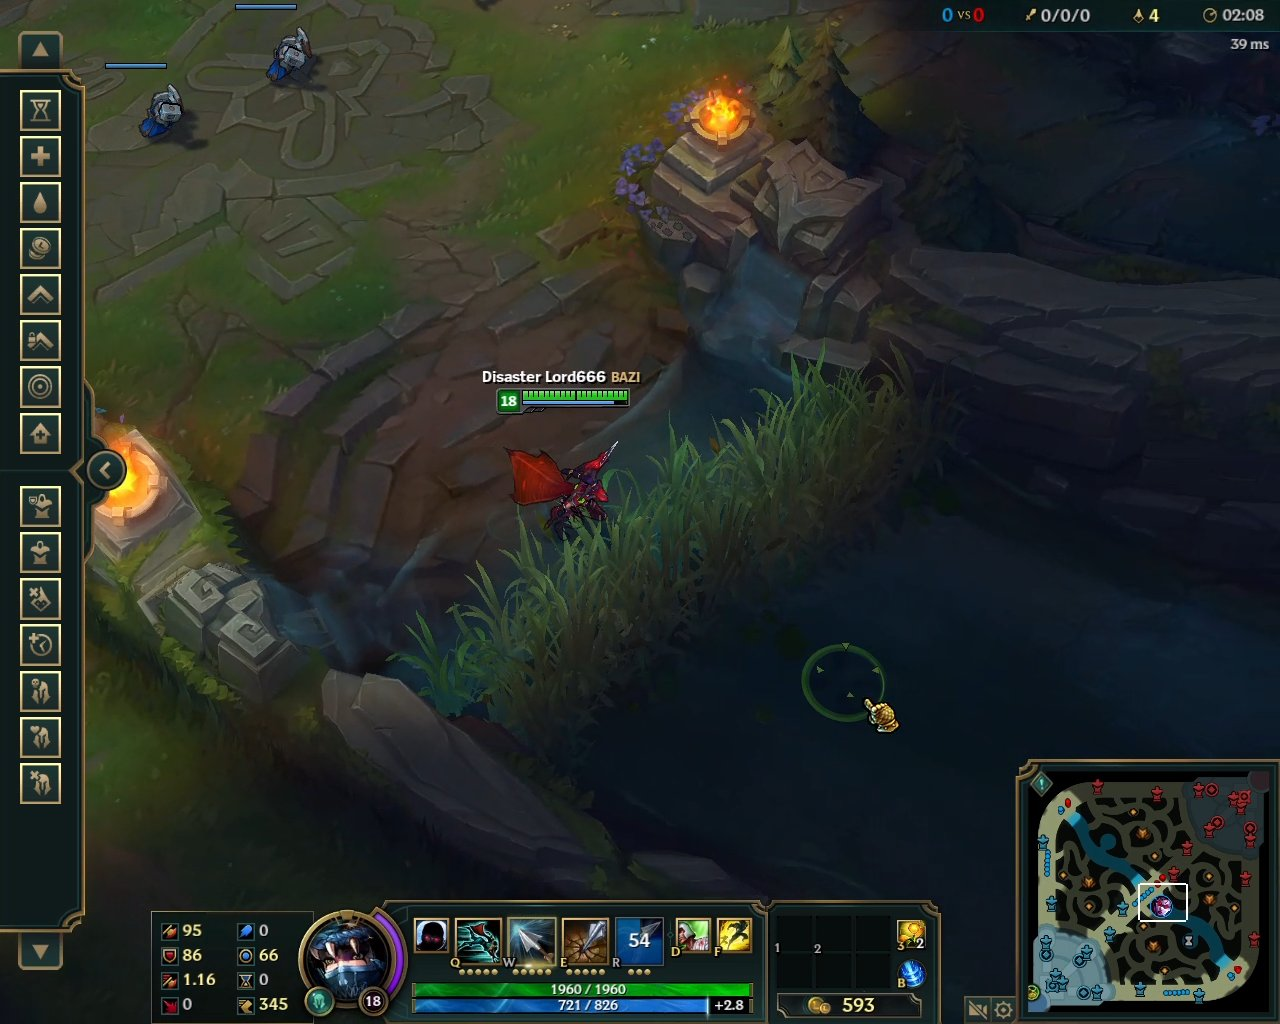Vayne: (499, 433, 630, 539)
